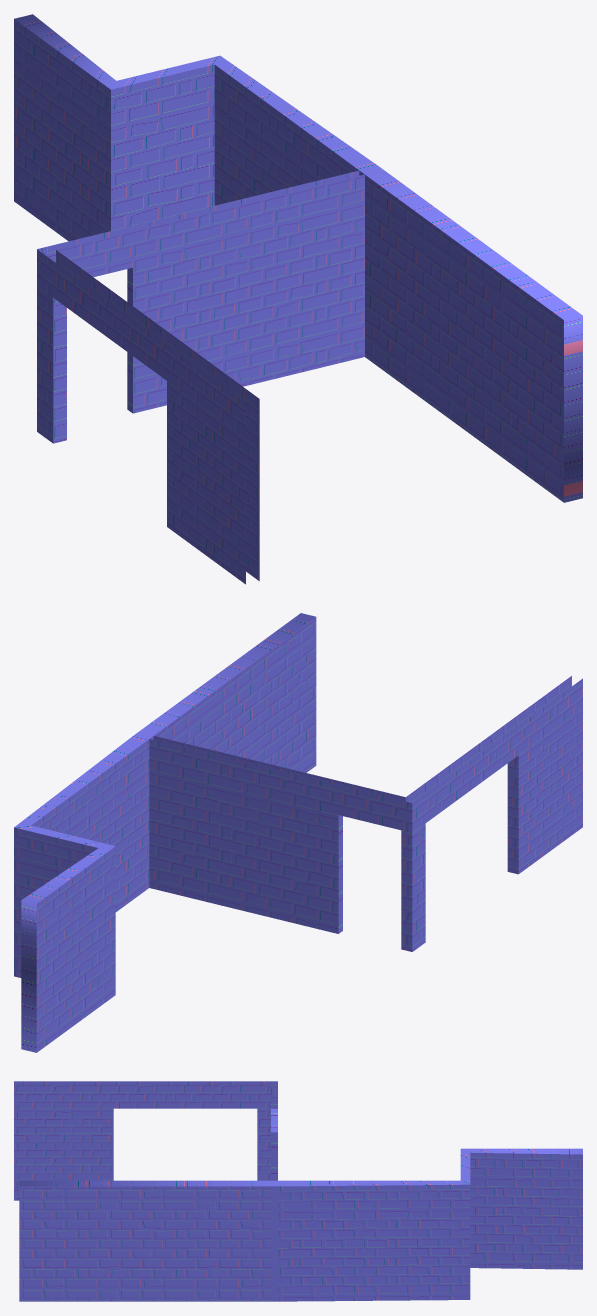
Rendered from sci.fbx.
The picture shows the model from 3 angles, top to bottom: view 1: azimuth 30°, elevation 25°; view 2: azimuth 150°, elevation 25°; view 3: azimuth 270°, elevation 25°; orthographic projection. The views are drawn at different scales.
Parts seen in each view (by area): view 1: Box_6B3DC1D0.001, Box_6B3DC1D0; view 2: Box_6B3DC1D0, Box_6B3DC1D0.001; view 3: Box_6B3DC1D0.001, Box_6B3DC1D0.
Part boxes in pixels (bbox=[...]): Box_6B3DC1D0.001: bbox=[14, 14, 582, 502]; Box_6B3DC1D0: bbox=[37, 170, 364, 584]; Box_6B3DC1D0: bbox=[149, 676, 582, 951]; Box_6B3DC1D0.001: bbox=[14, 613, 316, 1052]; Box_6B3DC1D0.001: bbox=[19, 1148, 582, 1301]; Box_6B3DC1D0: bbox=[14, 1081, 277, 1200].
Size of the model in its own units: 905 by 463 by 2070.
